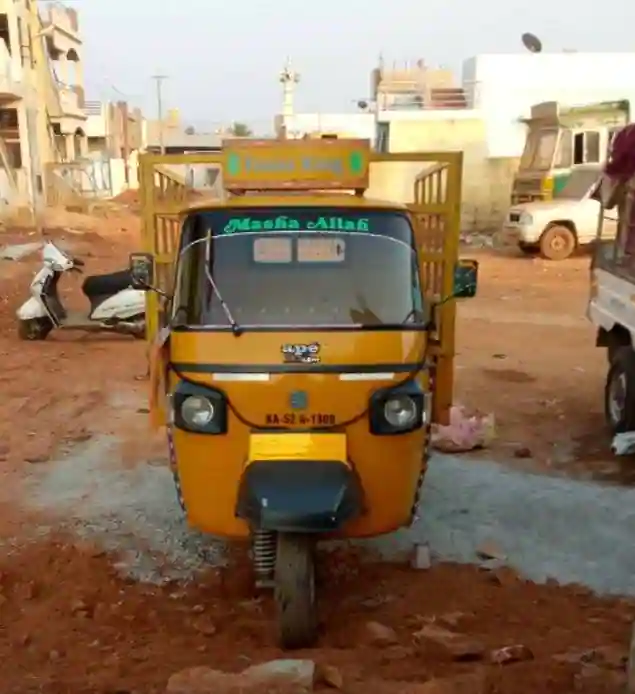auto: (134, 136, 486, 651)
